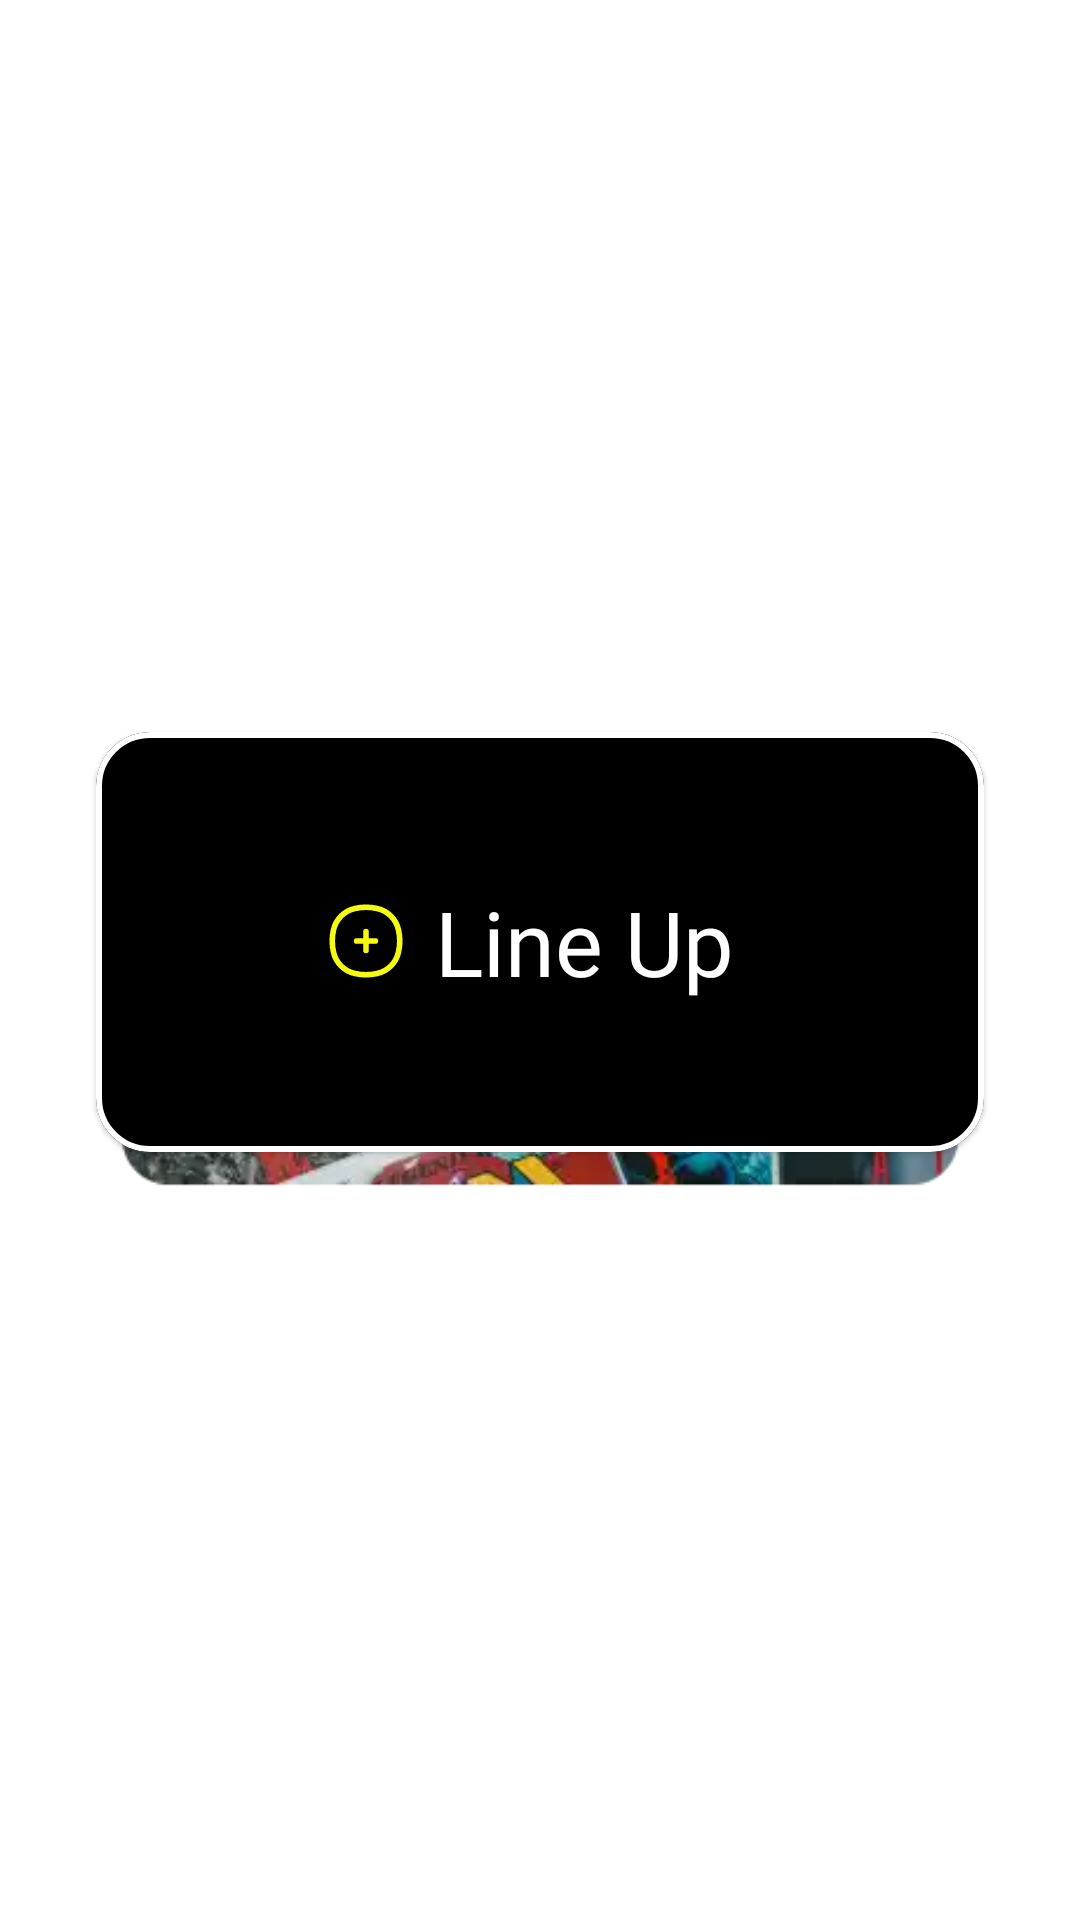

Where icons sit on this 1080*1920 app screen, as (x1, y1, x2, y2):
add: (329, 904, 403, 978)
